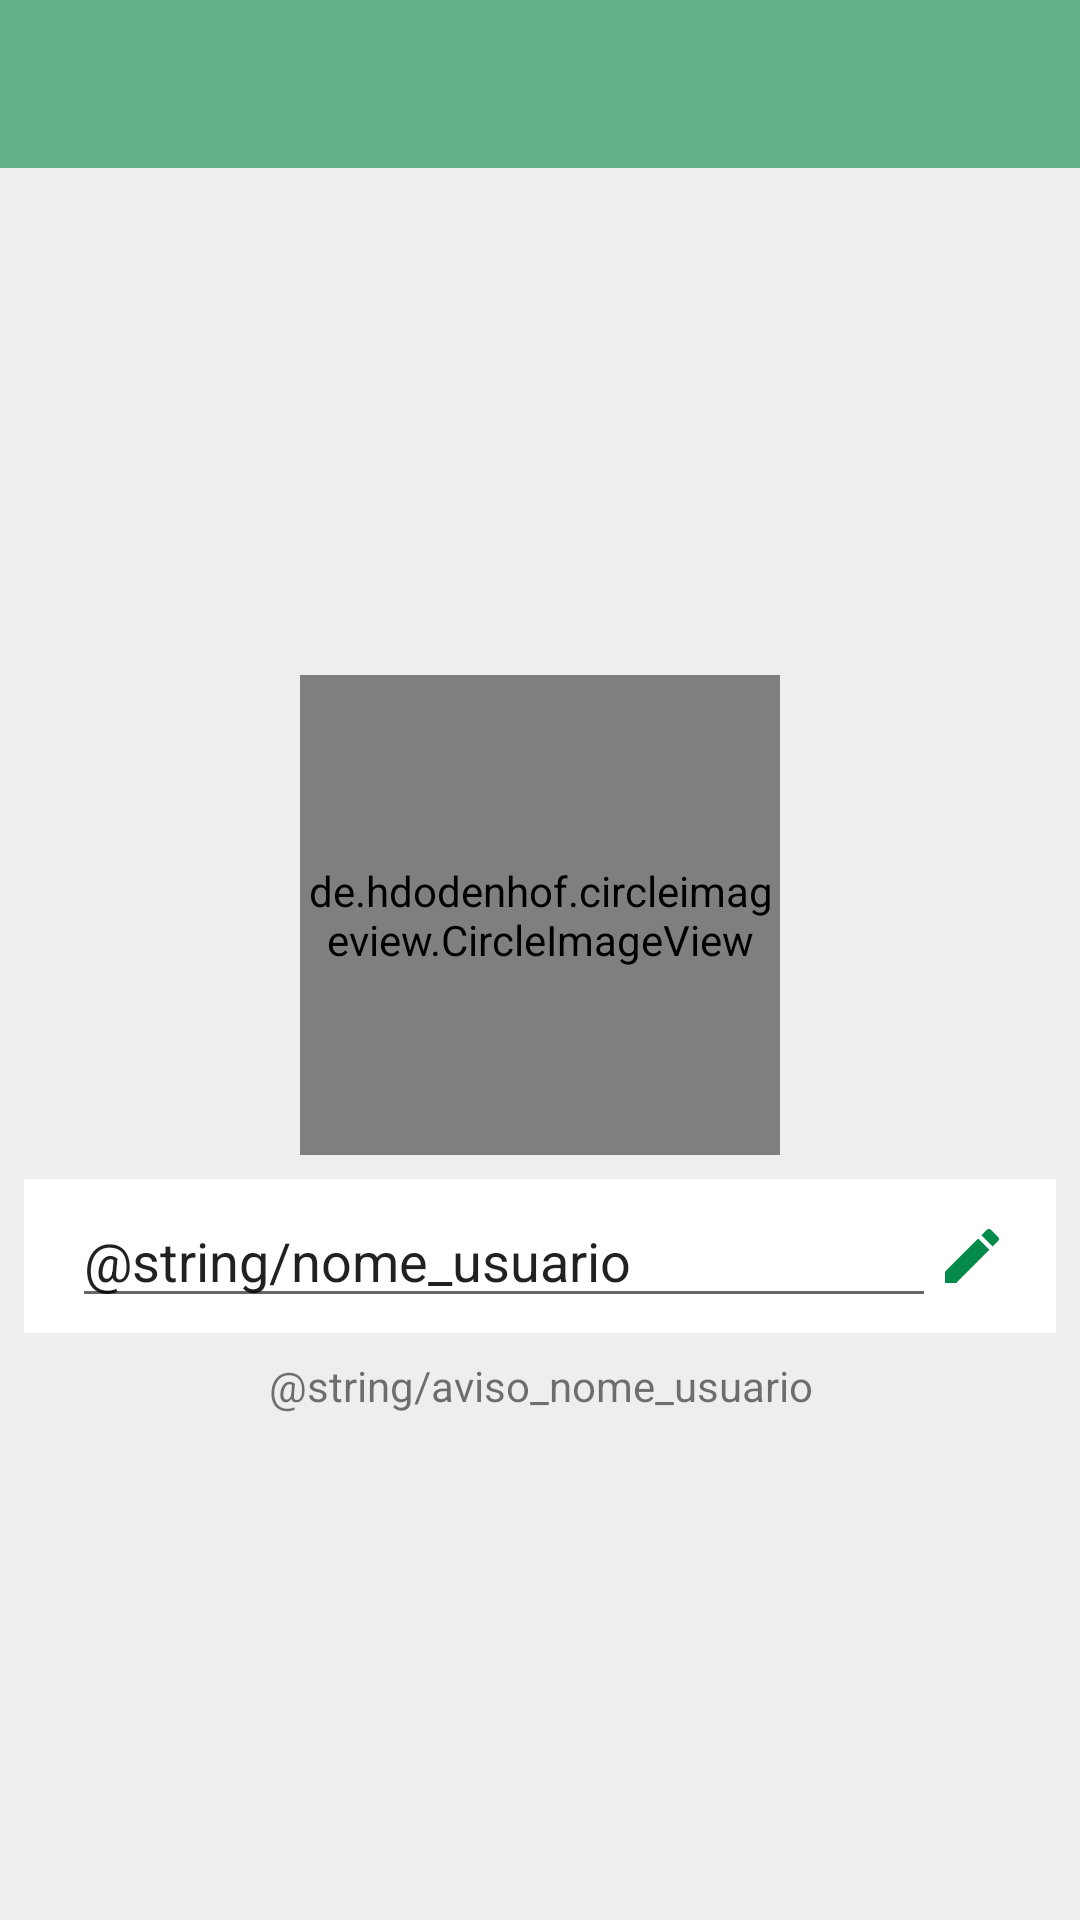

Icon bounding boxes for this 1080w x 1920h phone screenshot, format (x1, y1, x2, y2):
edit greenn: (945, 1229, 999, 1283)
